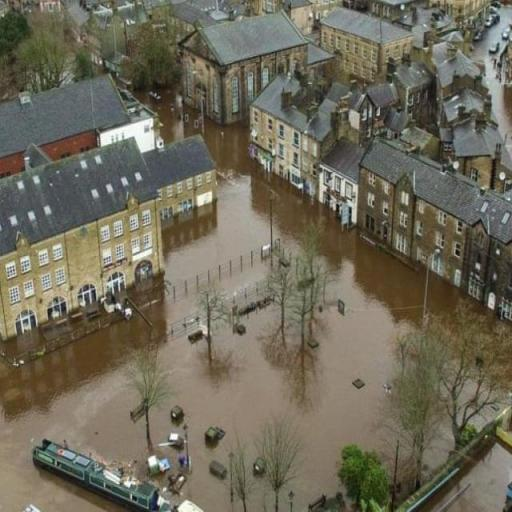flood: (137, 89, 426, 512), (0, 317, 152, 512), (434, 447, 512, 512), (429, 275, 465, 316)
house: (0, 134, 147, 338), (180, 0, 310, 138), (362, 139, 471, 296), (0, 71, 127, 165), (124, 129, 214, 247), (246, 81, 318, 190), (324, 4, 413, 80), (476, 190, 512, 323), (457, 128, 512, 175), (445, 86, 503, 130), (436, 46, 484, 90), (441, 0, 495, 27)
